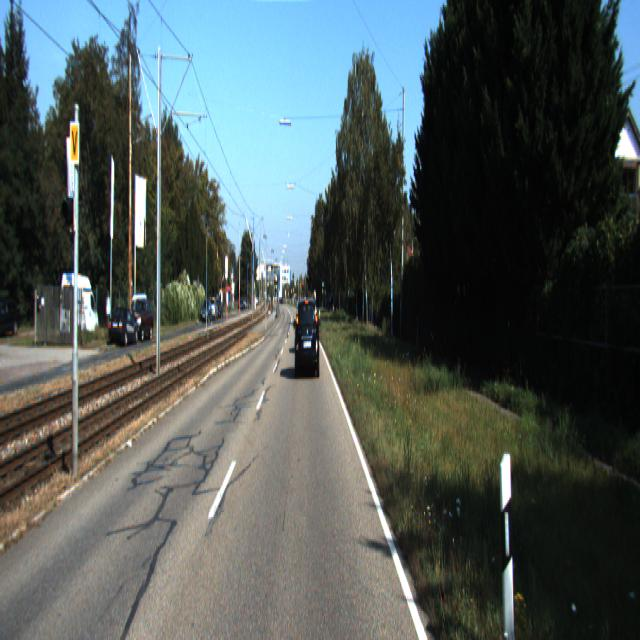Car: (60, 273, 100, 347), (296, 294, 320, 378), (108, 307, 140, 350), (127, 299, 155, 344)
